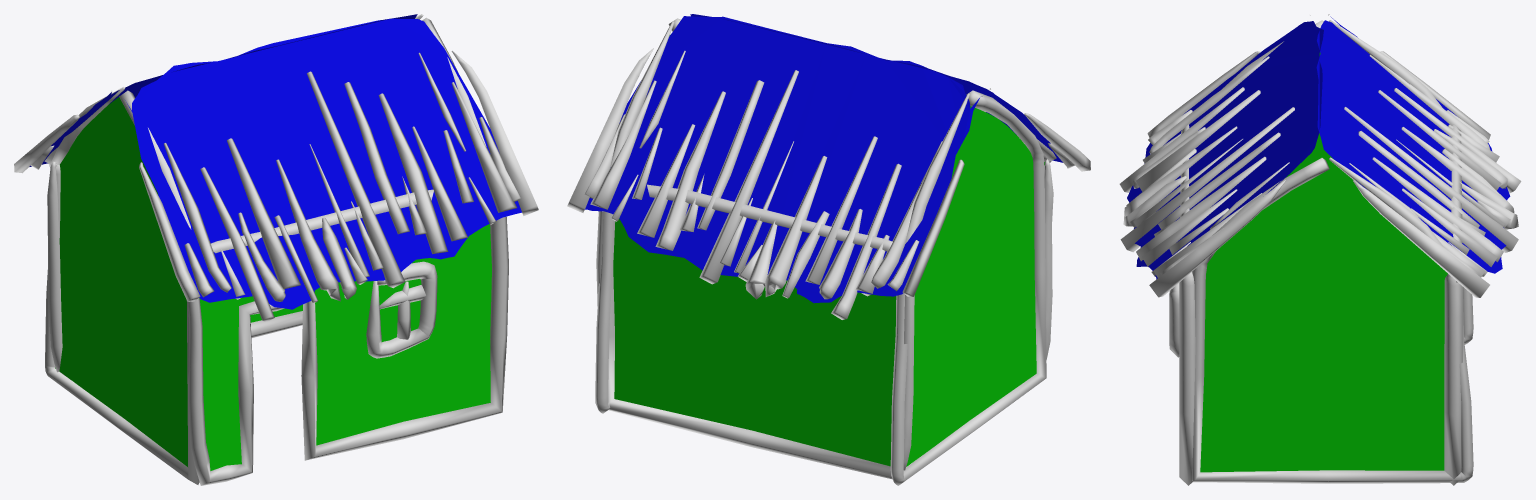
File: hut1.fbx
3 renders of one model, left to right at view 1: azimuth 30°, elevation 25°; view 2: azimuth 150°, elevation 25°; view 3: azimuth 270°, elevation 25°, orthographic. The views are drawn at different scales.
Parts seen in each view (by area): view 1: GP_Layer.004; view 2: GP_Layer.004; view 3: GP_Layer.004.
Boxes of the visible parts, x1,y1,x2,y2 form: GP_Layer.004: (14,14,538,485); GP_Layer.004: (567,14,1090,485); GP_Layer.004: (1119,14,1521,485).
Bounding box in the file's own units: 320 × 308 × 331.
